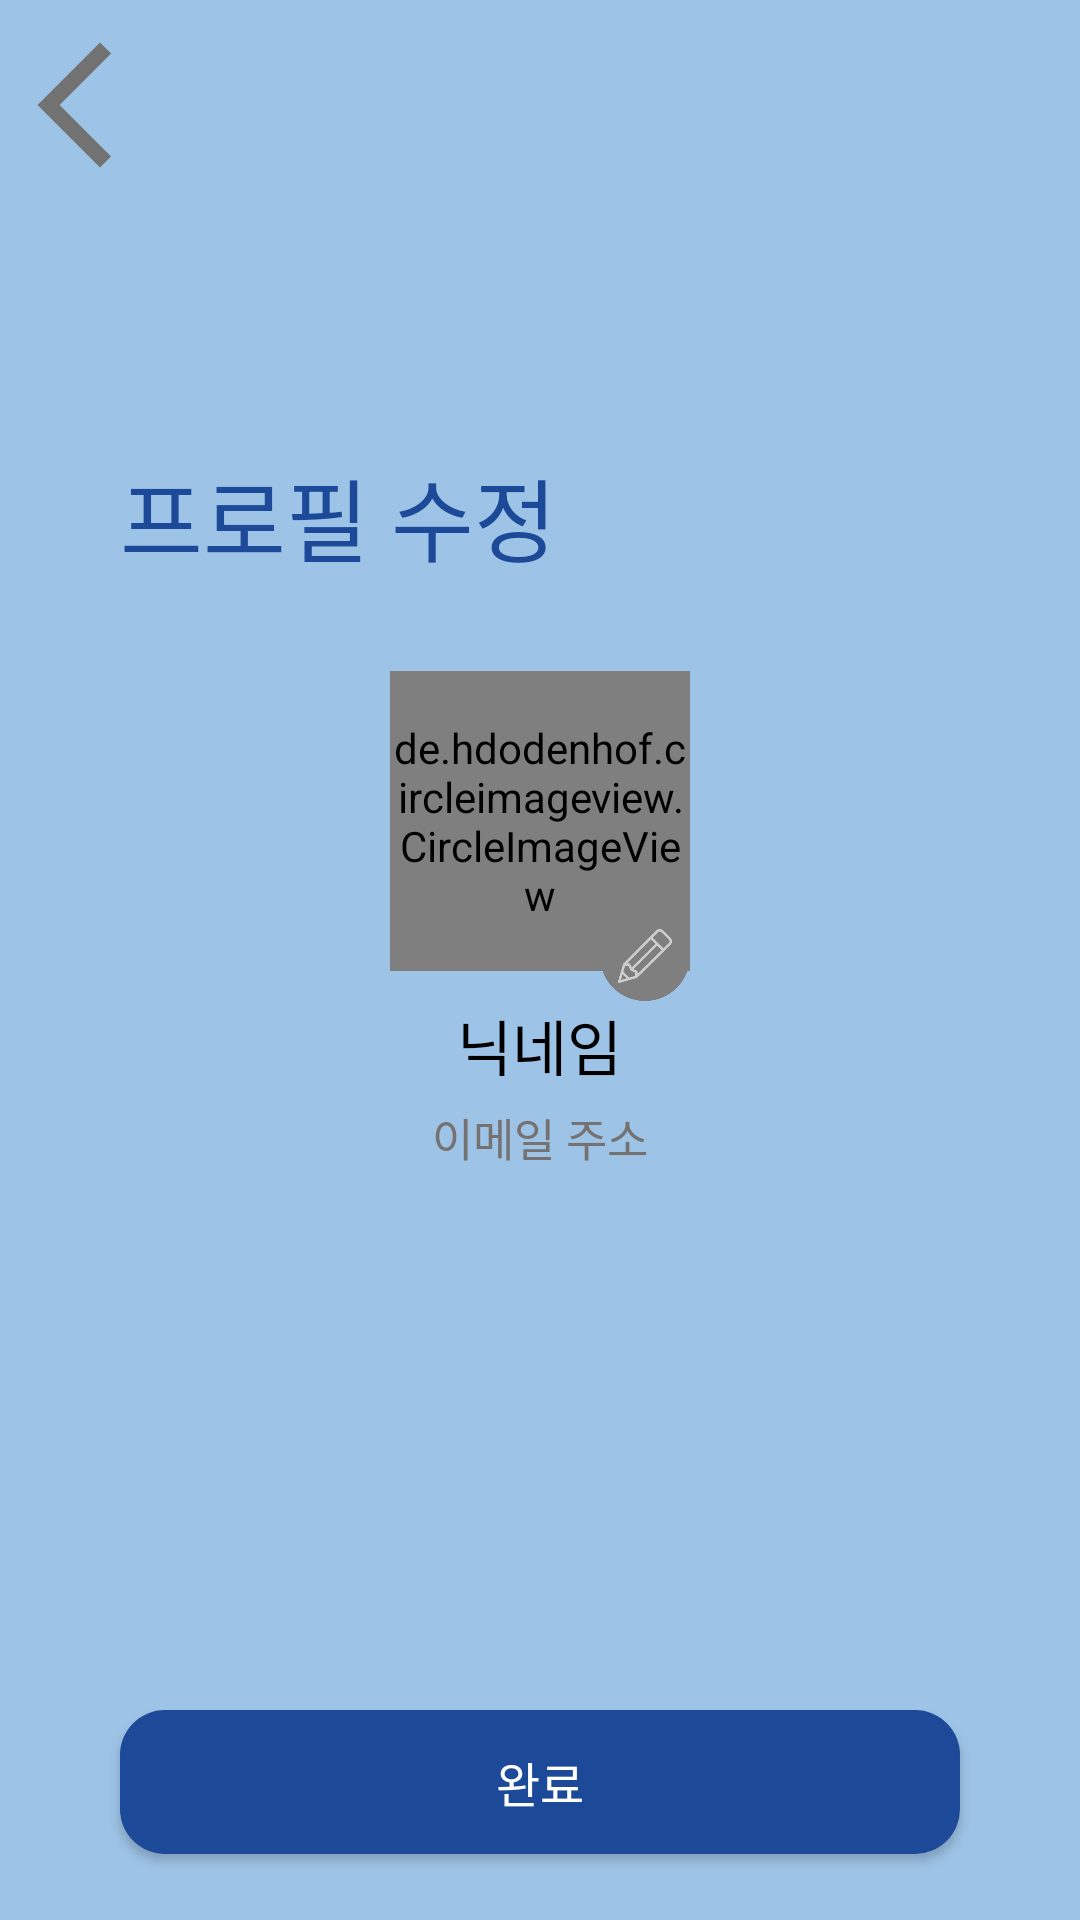

Where icons sit on this 1080*1920 app screen, as [left=x1, top=y1, right=x2, bottom=y2]:
arrow back: [left=38, top=43, right=111, bottom=167]
